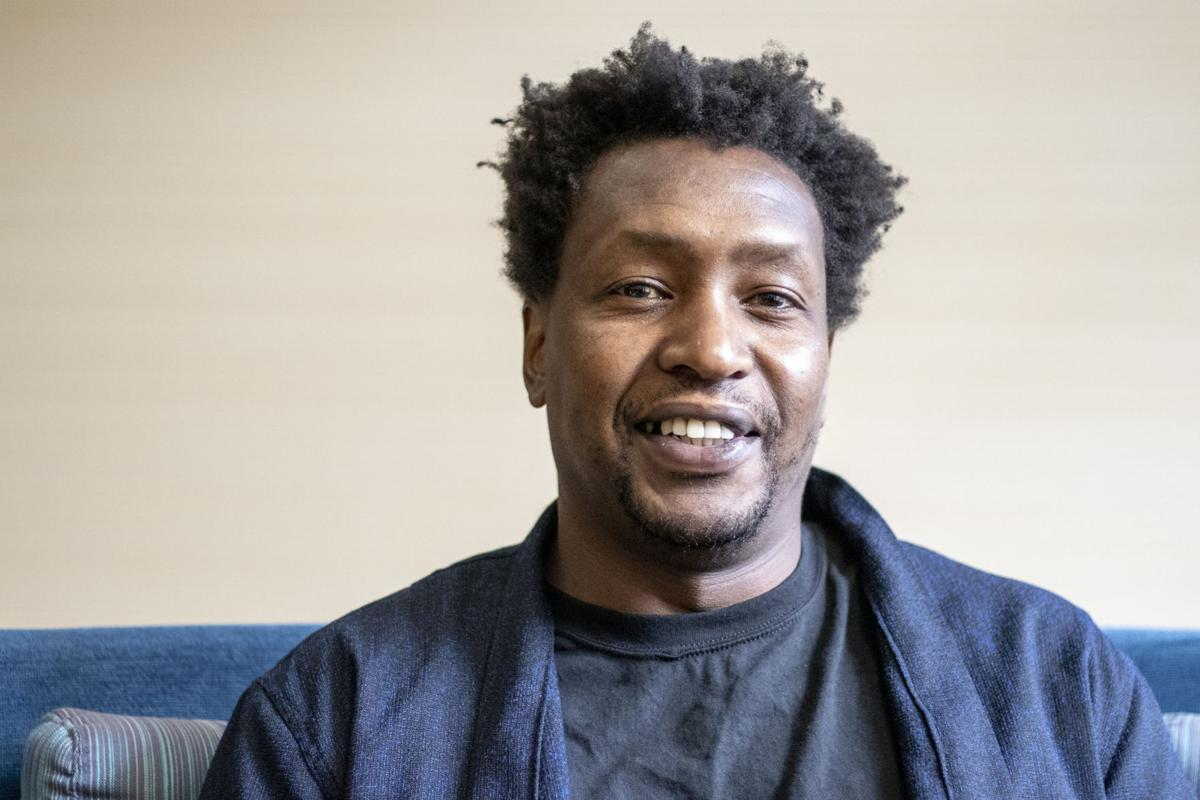person: (495, 35, 871, 570)
